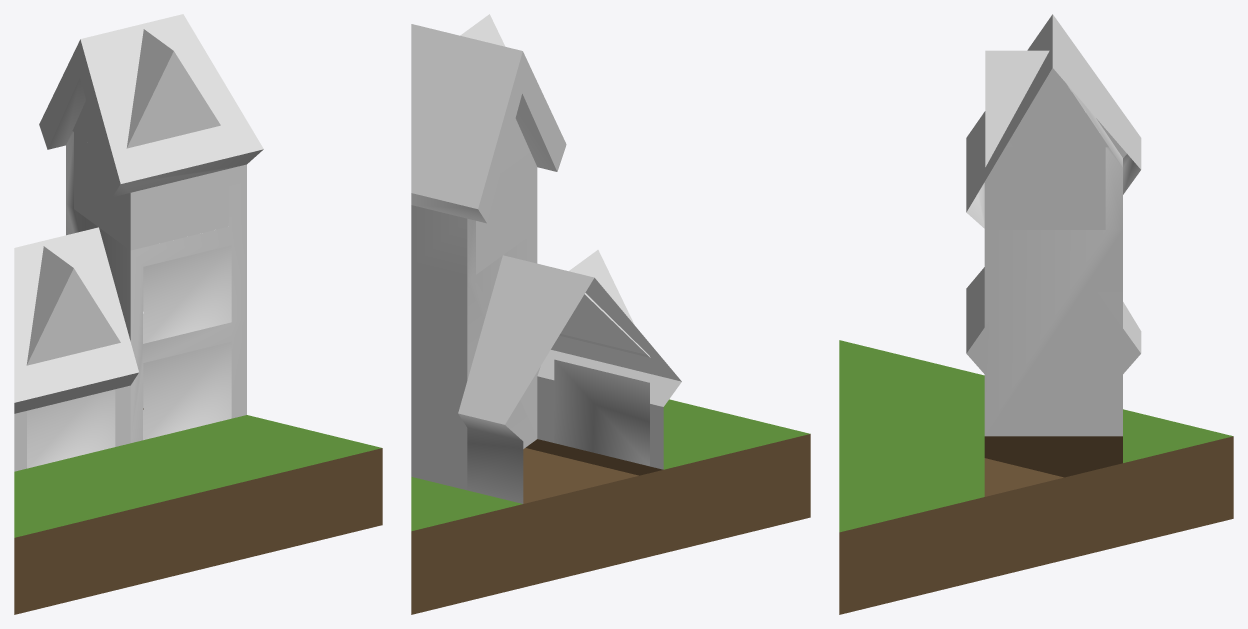
File: Casa_to_Pis_Simetric_DE.fbx
3 views of the same model, side by side, from view 1: azimuth 30°, elevation 25°; view 2: azimuth 150°, elevation 25°; view 3: azimuth 270°, elevation 25° (orthographic). The views are drawn at different scales.
Parts seen in each view (by area): view 1: Casa_to_Pis_Simetric_DE, DetallCantonada.011, DetallParet.038, DetallParet.037, DetallTeulada.023, DetallTeulada.022, DetallParet.039, DetallAltell_1.003; view 2: Casa_to_Pis_Simetric_DE, DetallParet.039, DetallCantonada.011, DetallTeulada.022, DetallTeulada.023, DetallAltell_1.003; view 3: Casa_to_Pis_Simetric_DE, DetallCantonada.011, DetallAltell_1.003, DetallTeulada.023.
Part boxes in pixels (left/top/right/bottom): Casa_to_Pis_Simetric_DE: left=14, top=14, right=382, bottom=614; DetallCantonada.011: left=74, top=132, right=228, bottom=250; DetallParet.038: left=143, top=245, right=231, bottom=343; DetallParet.037: left=143, top=341, right=231, bottom=440; DetallTeulada.023: left=126, top=29, right=220, bottom=148; DetallTeulada.022: left=26, top=246, right=120, bottom=365; DetallParet.039: left=27, top=389, right=115, bottom=468; DetallAltell_1.003: left=72, top=100, right=99, bottom=150; Casa_to_Pis_Simetric_DE: left=411, top=24, right=810, bottom=614; DetallParet.039: left=554, top=359, right=649, bottom=466; DetallCantonada.011: left=476, top=151, right=537, bottom=274; DetallTeulada.022: left=559, top=250, right=650, bottom=357; DetallTeulada.023: left=460, top=14, right=505, bottom=46; DetallAltell_1.003: left=501, top=118, right=530, bottom=172; Casa_to_Pis_Simetric_DE: left=839, top=14, right=1233, bottom=614; DetallCantonada.011: left=984, top=147, right=1105, bottom=229; DetallAltell_1.003: left=1005, top=68, right=1108, bottom=147; DetallTeulada.023: left=985, top=50, right=1049, bottom=166.
Size of the model in its own units: 100 by 120 by 86.6.
